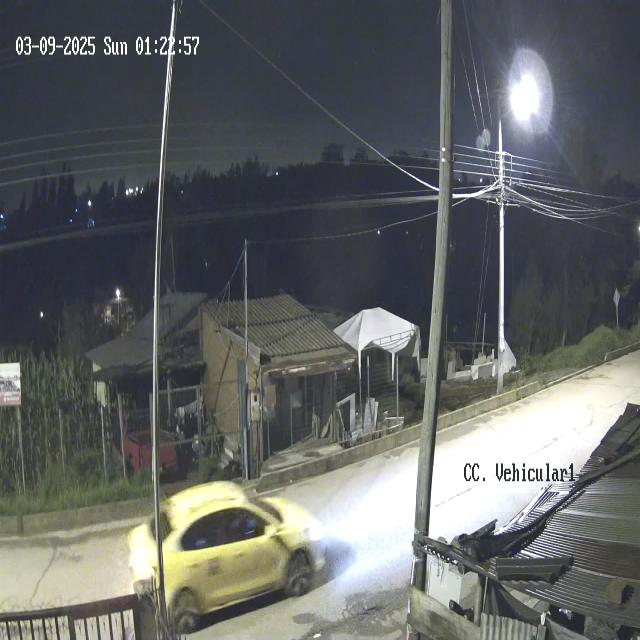SED: (130, 477, 329, 633)
